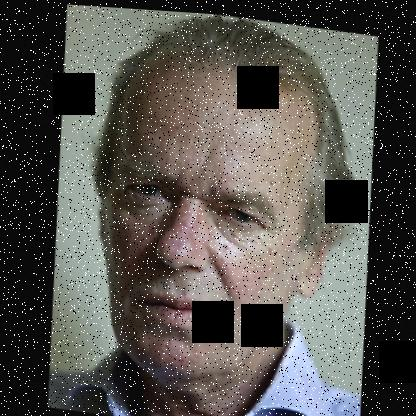Male: (78, 44, 339, 390)
